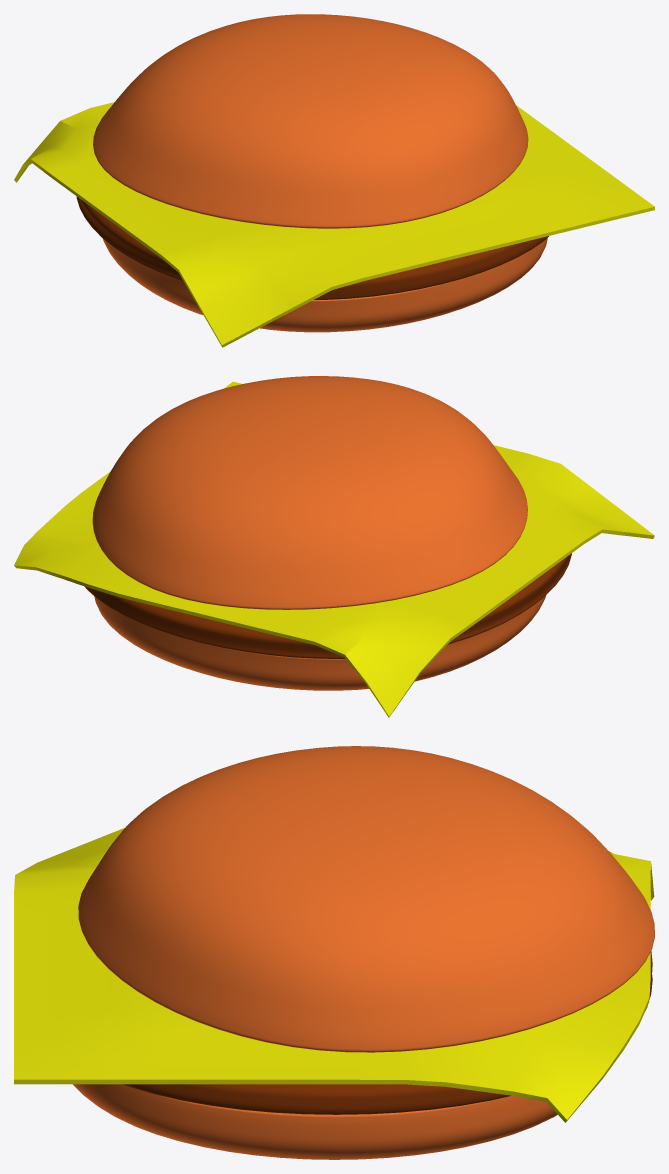
File: burger.glb
3 renders of one model, top to bottom at view 1: azimuth 30°, elevation 25°; view 2: azimuth 150°, elevation 25°; view 3: azimuth 270°, elevation 25°, orthographic. The views are drawn at different scales.
Parts seen in each view (by area): view 1: Cube.002, Plane, Cube, Cube.001; view 2: Cube.002, Plane, Cube, Cube.001; view 3: Cube.002, Plane, Cube, Cube.001.
Boxes of the visible parts, <box> form: Cube.002: <box>93,14,528,228</box>; Plane: <box>14,102,654,347</box>; Cube: <box>103,237,547,332</box>; Cube.001: <box>76,196,548,299</box>; Cube.002: <box>92,376,527,609</box>; Plane: <box>14,381,654,717</box>; Cube: <box>94,595,546,690</box>; Cube.001: <box>85,553,571,658</box>; Cube.002: <box>78,746,654,1052</box>; Plane: <box>14,828,654,1122</box>; Cube: <box>73,1084,557,1159</box>; Cube.001: <box>123,951,652,1114</box>.
Size of the model in its own units: 3.85 by 1.77 by 3.79.
